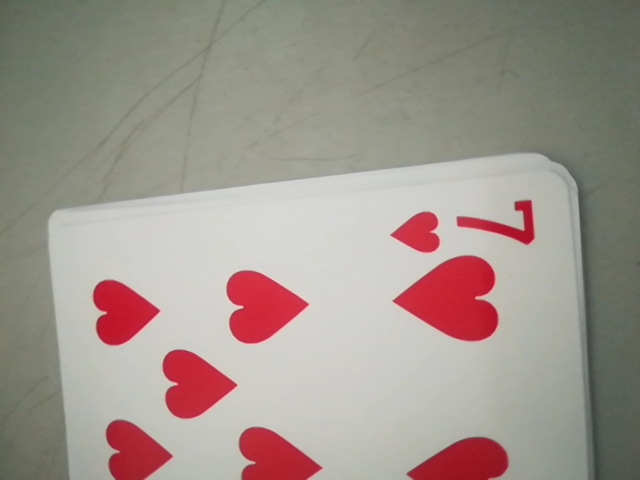hx 7: (386, 192, 545, 259)
